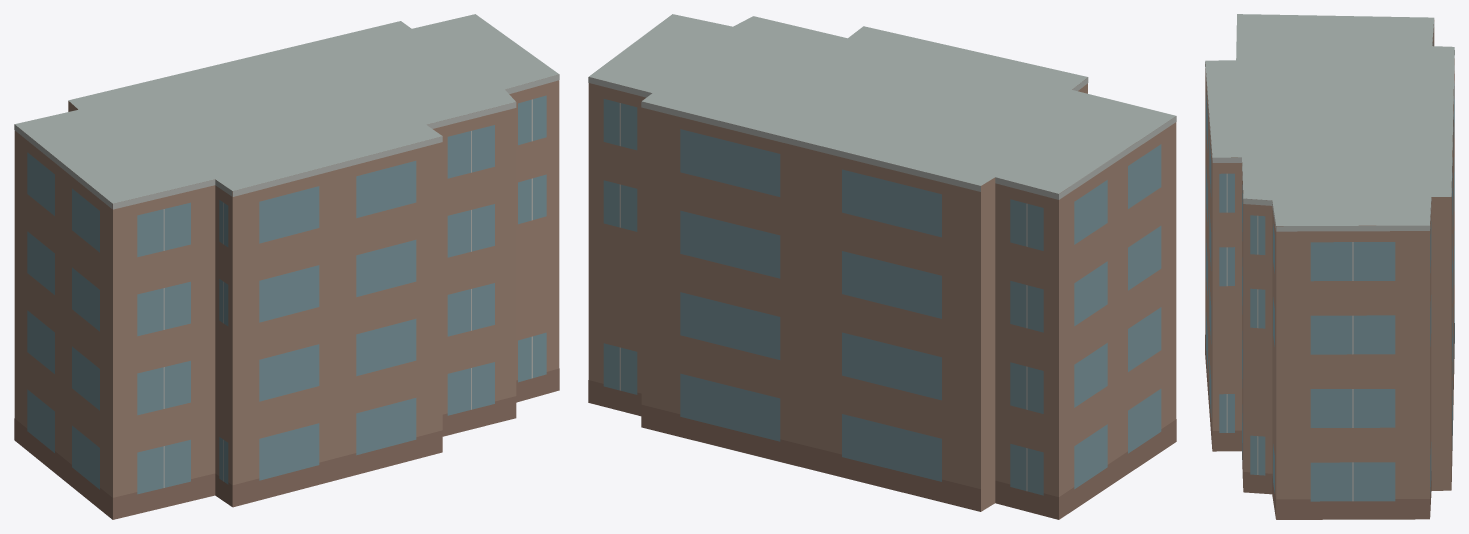
Rendered from survey-upis-32908950.glb.
The picture shows the model from 3 angles, left to right: view 1: azimuth 30°, elevation 25°; view 2: azimuth 150°, elevation 25°; view 3: azimuth 270°, elevation 25°; orthographic projection. The views are drawn at different scales.
Visible parts, largest first — view 1: survey-upis-32908950.tmp; view 2: survey-upis-32908950.tmp; view 3: survey-upis-32908950.tmp.
Part boxes in pixels (x1=…): survey-upis-32908950.tmp: x1=14, y1=14, x2=559, y2=519; survey-upis-32908950.tmp: x1=588, y1=14, x2=1176, y2=519; survey-upis-32908950.tmp: x1=1205, y1=14, x2=1454, y2=519.
Size of the model in its own units: 20.29 by 13.1 by 10.09.
